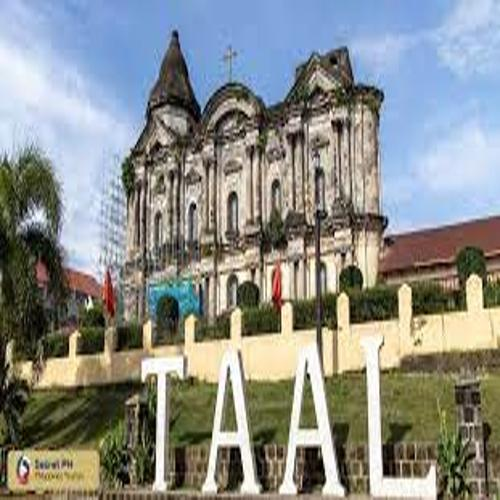Taal Basilica Church: (111, 17, 398, 318)
